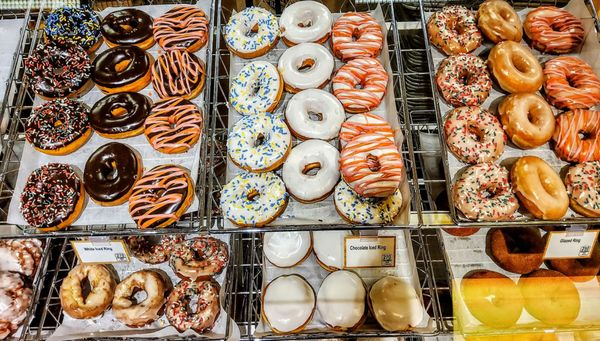salad: (19, 163, 85, 230), (127, 165, 195, 228), (21, 42, 92, 100), (451, 162, 519, 222), (218, 171, 289, 228), (226, 112, 292, 173), (441, 106, 505, 166), (460, 269, 524, 329), (25, 99, 92, 156), (83, 142, 143, 205), (282, 140, 341, 204), (512, 156, 570, 221), (112, 268, 170, 328), (368, 276, 429, 333), (331, 57, 389, 115), (59, 263, 118, 320), (498, 92, 555, 150), (261, 273, 316, 333), (164, 277, 221, 334), (542, 57, 600, 113), (434, 54, 493, 108), (485, 226, 550, 275), (228, 60, 284, 115), (285, 90, 345, 141), (316, 270, 367, 330), (91, 45, 153, 94), (223, 6, 280, 59), (487, 41, 544, 94), (522, 276, 581, 327), (144, 104, 203, 155), (522, 8, 586, 55), (550, 105, 600, 164), (89, 92, 150, 139), (426, 8, 483, 57), (170, 235, 230, 281), (279, 43, 333, 92), (279, 1, 332, 46), (0, 269, 35, 336), (563, 160, 600, 219), (101, 7, 154, 47), (477, 1, 523, 44), (123, 232, 179, 265)
